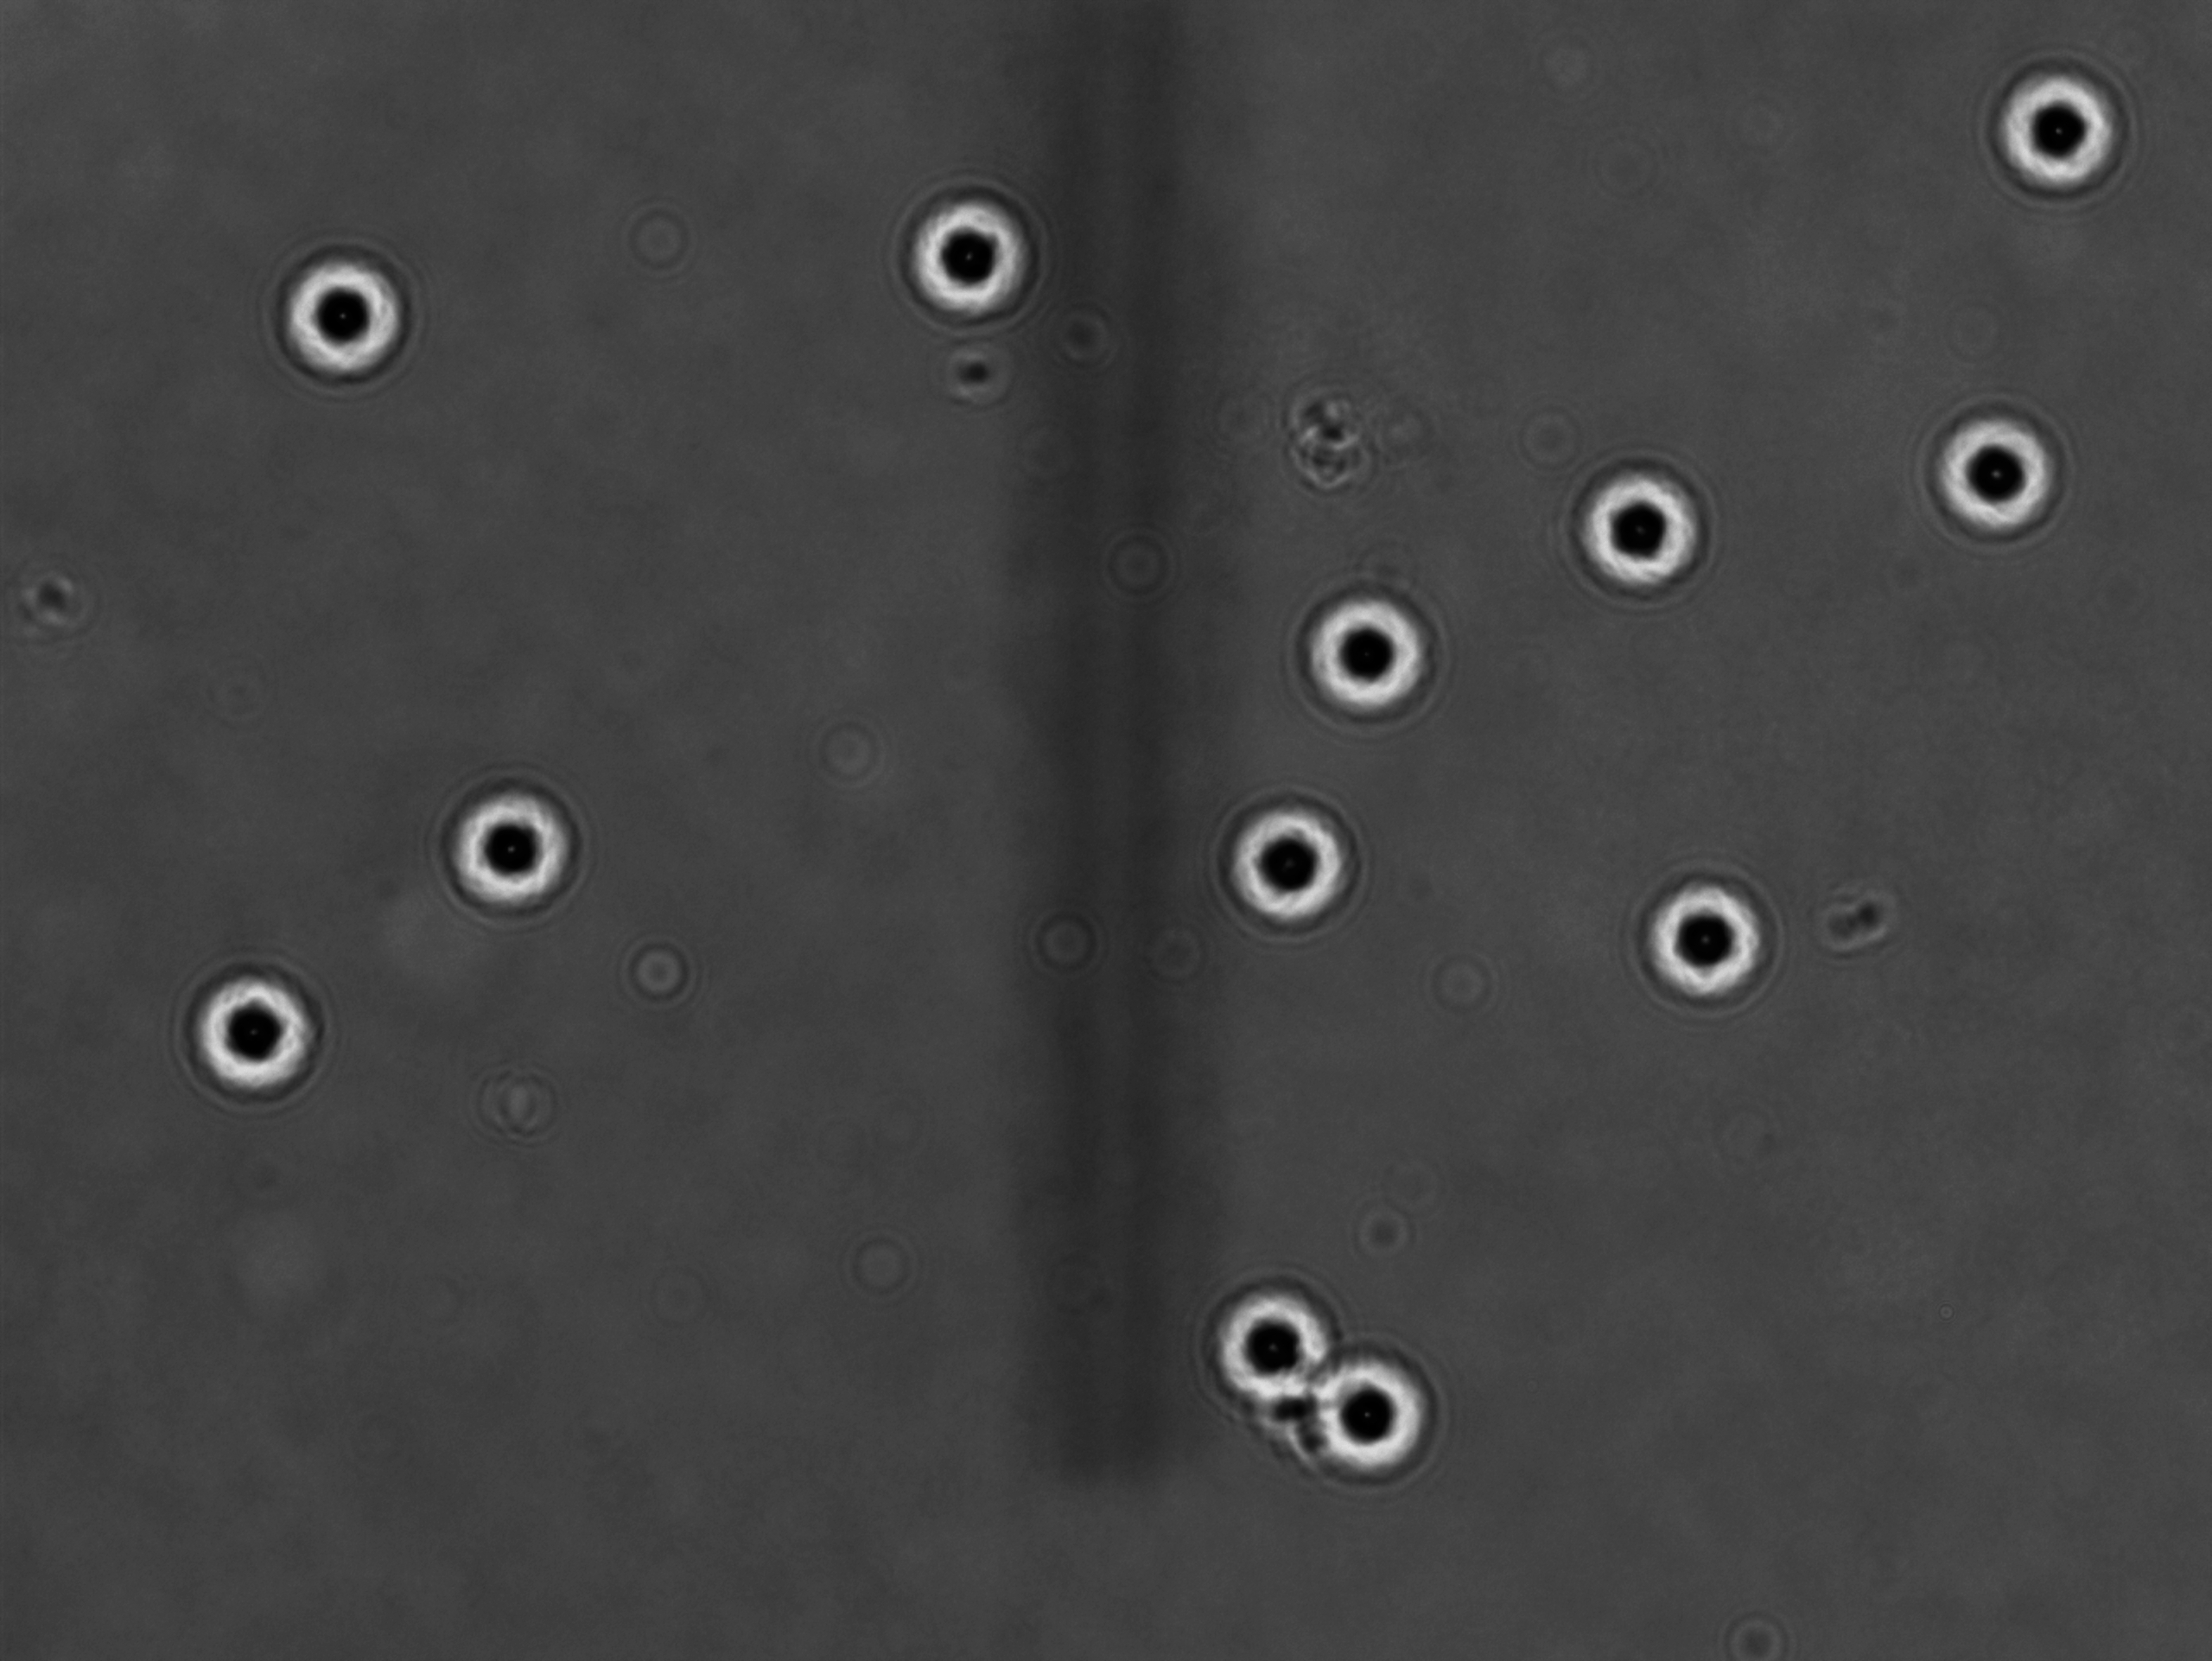depth:-20: (1204, 769, 1382, 951), (426, 769, 611, 930), (1915, 393, 2081, 567), (1968, 56, 2151, 213), (173, 947, 340, 1113), (1293, 574, 1460, 738), (1556, 455, 1729, 614), (1631, 855, 1797, 1015), (1197, 1272, 1361, 1431), (888, 180, 1048, 335), (265, 243, 420, 398), (1296, 1333, 1446, 1490)
